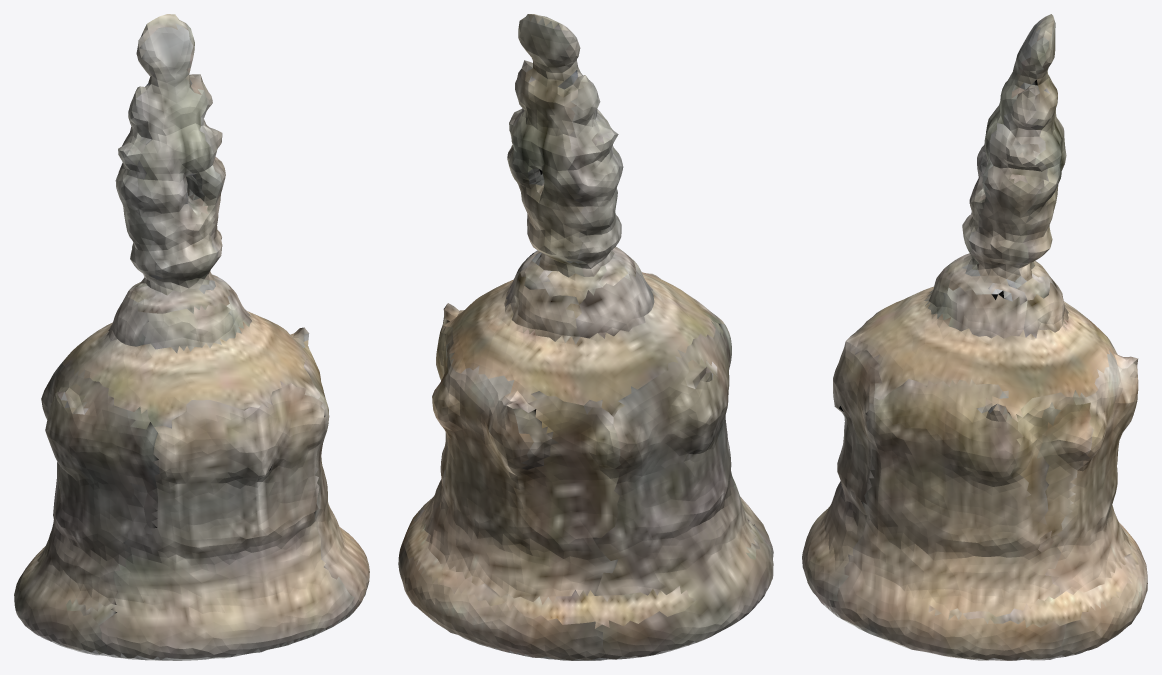
Rendered from artefak_37688_low.glb.
3 renders of one model, left to right at view 1: azimuth 30°, elevation 25°; view 2: azimuth 150°, elevation 25°; view 3: azimuth 270°, elevation 25°, orthographic. The views are drawn at different scales.
Visible parts, largest first — view 1: world; view 2: world; view 3: world.
Boxes of the visible parts, x1,y1,x2,y2 form: world: [14, 14, 369, 660]; world: [398, 14, 773, 660]; world: [802, 14, 1147, 660].
Size of the model in its own units: 0.4936 by 0.8568 by 0.4576.
1 material, 1 textured.
